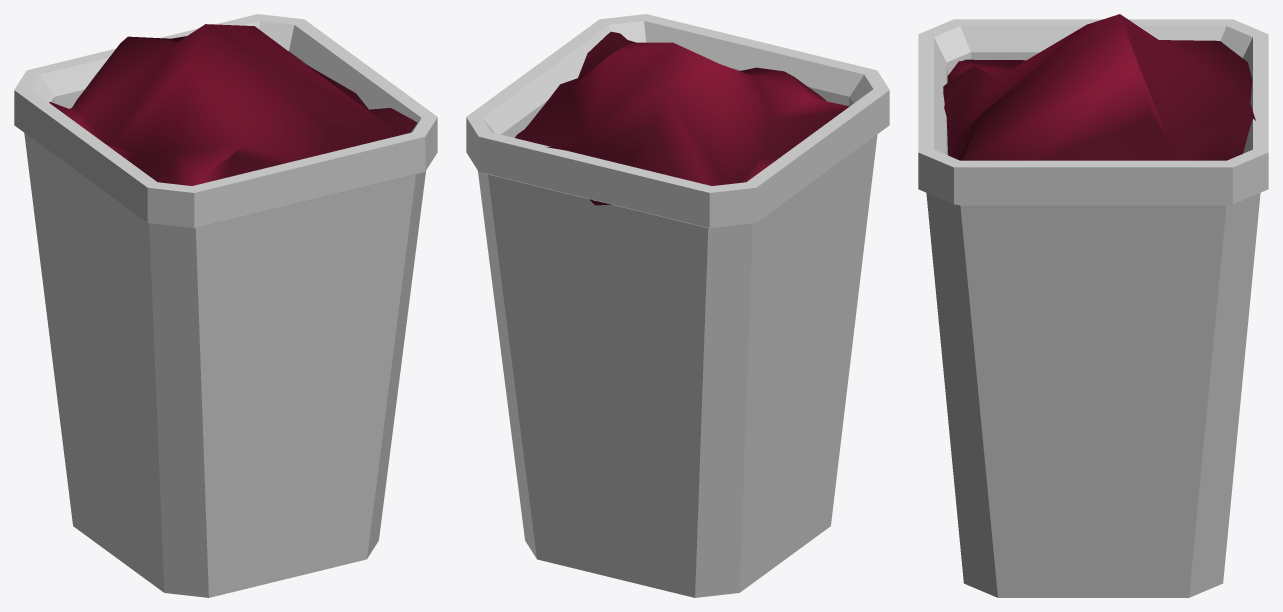
The model's file is SM_TrashBIn_Red.fbx.
3 views of the same model, side by side, from view 1: azimuth 30°, elevation 25°; view 2: azimuth 150°, elevation 25°; view 3: azimuth 270°, elevation 25° (orthographic). The views are drawn at different scales.
Parts seen in each view (by area): view 1: SM_Bin_Red, SM_Trash_Red; view 2: SM_Bin_Red, SM_Trash_Red; view 3: SM_Bin_Red, SM_Trash_Red.
Part boxes in pixels (<box>): SM_Bin_Red: <box>14,14,437,597</box>; SM_Trash_Red: <box>49,24,416,185</box>; SM_Bin_Red: <box>466,14,889,597</box>; SM_Trash_Red: <box>515,31,849,205</box>; SM_Bin_Red: <box>918,19,1268,597</box>; SM_Trash_Red: <box>943,14,1255,160</box>.
Bounding box in the file's own units: 71.13 × 118 × 71.13.
